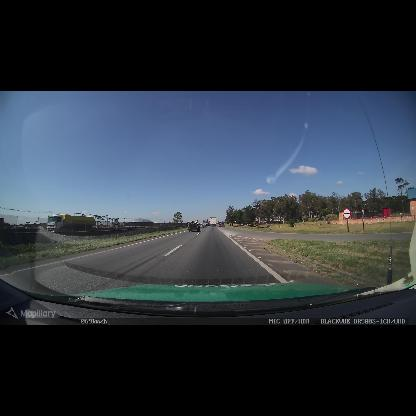R-2: (361, 208, 365, 217)
R-24a: (342, 208, 351, 219), (114, 219, 119, 230)
